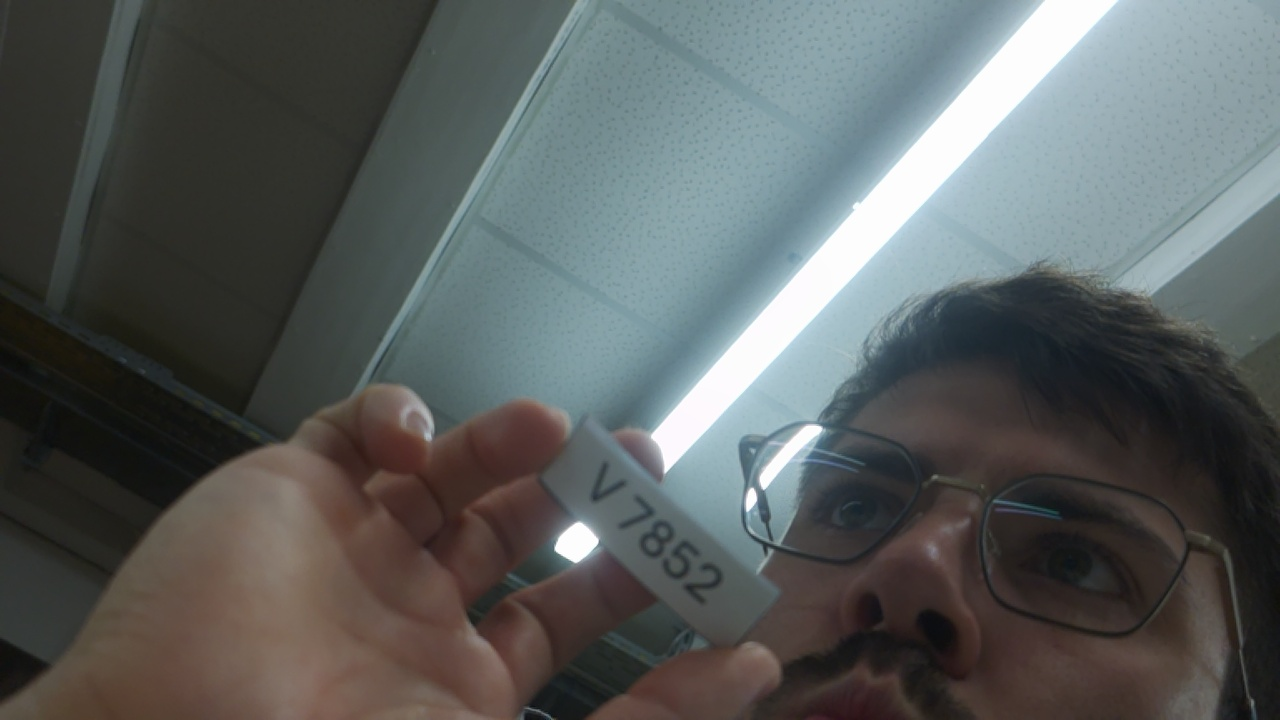license_plate: (529, 400, 794, 656)
